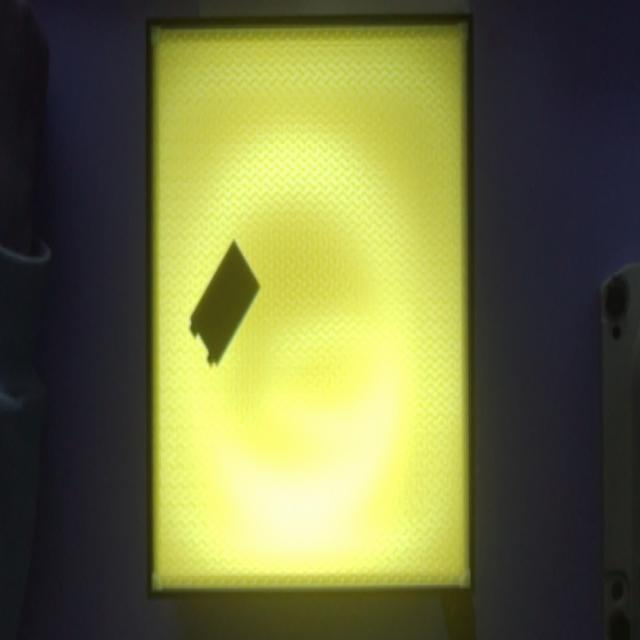bateria: (189, 236, 258, 365)
mesa: (146, 14, 476, 598)
